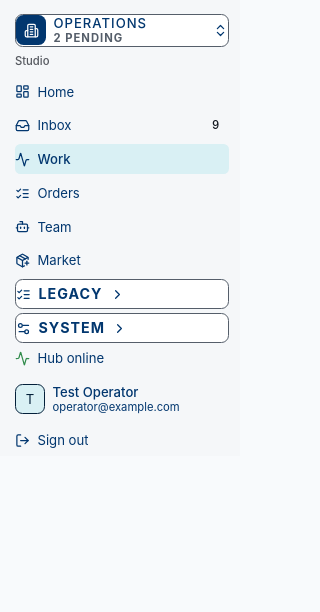
renders System and footer links with canonical hrefs
Click the button "System". click: [122, 328]
box: [15,313,229,343]
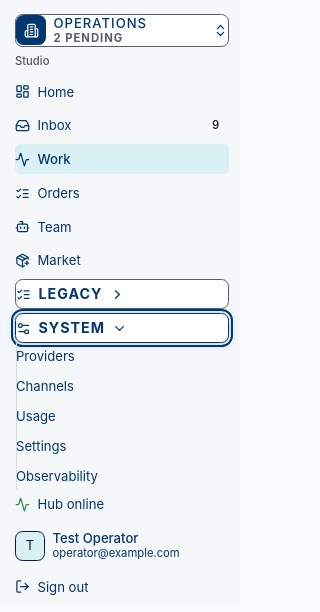
Check: the link "Providers" is shown, box [16,348,75,364]
Check: the link "Channels" is shown, box [16,378,74,394]
Check: the link "Usage" is shown, box [16,408,56,424]
